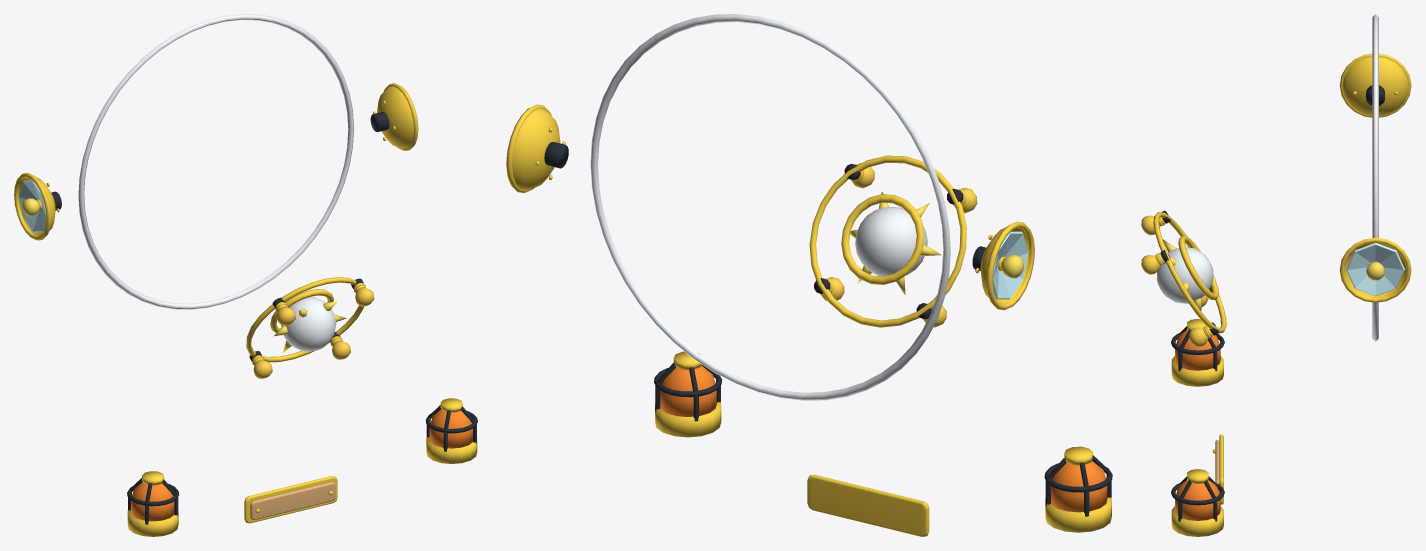
File: HeatLamp_T5_Upgrades.fbx
The picture shows the model from 3 angles, left to right: view 1: azimuth 30°, elevation 25°; view 2: azimuth 150°, elevation 25°; view 3: azimuth 270°, elevation 25°; orthographic projection. The views are drawn at different scales.
Visible parts, largest first — view 1: HeatLampT5U5SunBulbGlow, HeatLampT5U5NamePlate, HeatLampT5U3Reflector1, HeatLampT5U3Reflector2, HeatLampT5U2Beacon1, HeatLampT5U2Beacon2, HeatLampT5U1Bulbs, HeatLampT5U1BulbsGlow, HeatLampT5U2Beacon1Glow, HeatLampT5U2Beacon2Glow; view 2: HeatLampT5U5SunBulbGlow, HeatLampT5U5NamePlate, HeatLampT5U1Bulbs, HeatLampT5U3Reflector1, HeatLampT5U3Reflector2, HeatLampT5U2Beacon2, HeatLampT5U2Beacon1, HeatLampT5U5SunBulb, HeatLampT5U2Beacon2Glow, HeatLampT5U2Beacon1Glow, HeatLampT5U1BulbsGlow; view 3: HeatLampT5U5SunBulbGlow, HeatLampT5U3Reflector1, HeatLampT5U3Reflector2, HeatLampT5U2Beacon1, HeatLampT5U2Beacon2, HeatLampT5U1Bulbs, HeatLampT5U2Beacon1Glow, HeatLampT5U2Beacon2Glow, HeatLampT5U1BulbsGlow, HeatLampT5U5SunBulb, HeatLampT5U5NamePlate.
Part boxes in pixels (x1,y1,x2,y2): HeatLampT5U5SunBulbGlow: (78, 14, 353, 352); HeatLampT5U5NamePlate: (244, 476, 337, 523); HeatLampT5U3Reflector1: (370, 83, 418, 150); HeatLampT5U3Reflector2: (14, 172, 61, 240); HeatLampT5U2Beacon1: (425, 398, 477, 463); HeatLampT5U2Beacon2: (127, 471, 179, 536); HeatLampT5U1Bulbs: (246, 277, 365, 365); HeatLampT5U1BulbsGlow: (253, 287, 374, 378); HeatLampT5U2Beacon1Glow: (429, 409, 472, 448); HeatLampT5U2Beacon2Glow: (131, 482, 174, 521); HeatLampT5U5SunBulbGlow: (590, 14, 950, 400); HeatLampT5U5NamePlate: (807, 474, 929, 536); HeatLampT5U1Bulbs: (809, 155, 966, 327); HeatLampT5U3Reflector1: (506, 104, 568, 193); HeatLampT5U3Reflector2: (972, 221, 1034, 310); HeatLampT5U2Beacon2: (1044, 446, 1112, 532); HeatLampT5U2Beacon1: (654, 351, 722, 437); HeatLampT5U5SunBulb: (841, 194, 924, 284); HeatLampT5U2Beacon2Glow: (1050, 461, 1107, 512); HeatLampT5U2Beacon1Glow: (660, 365, 716, 416); HeatLampT5U1BulbsGlow: (821, 163, 977, 327); HeatLampT5U5SunBulbGlow: (1156, 14, 1378, 341); HeatLampT5U3Reflector1: (1339, 237, 1411, 302); HeatLampT5U3Reflector2: (1339, 53, 1411, 117); HeatLampT5U2Beacon1: (1171, 469, 1224, 536); HeatLampT5U2Beacon2: (1171, 319, 1224, 386); HeatLampT5U1Bulbs: (1153, 210, 1226, 337); HeatLampT5U2Beacon1Glow: (1175, 480, 1220, 520); HeatLampT5U2Beacon2Glow: (1175, 330, 1220, 370); HeatLampT5U1BulbsGlow: (1141, 215, 1208, 347); HeatLampT5U5SunBulb: (1178, 236, 1218, 299); HeatLampT5U5NamePlate: (1212, 434, 1223, 504).
Size of the model in its own units: 295 by 323 by 174.
